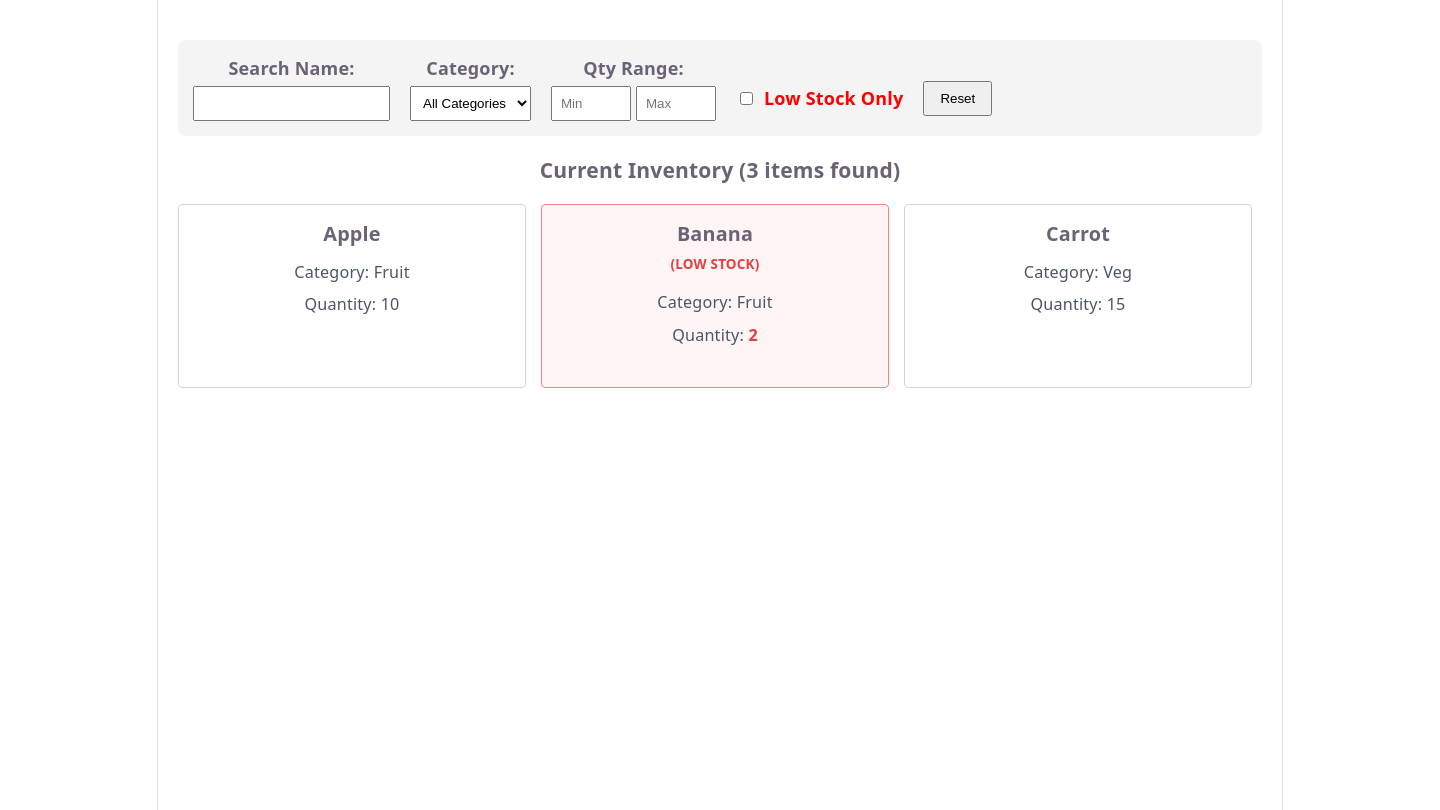
Test: InventoryList Component › filters items by search term
Expected: the text "Apple" is shown, [323,220,381,247]
Step 1. Type "apple" into the field → (292, 104), box [193,86,390,121]
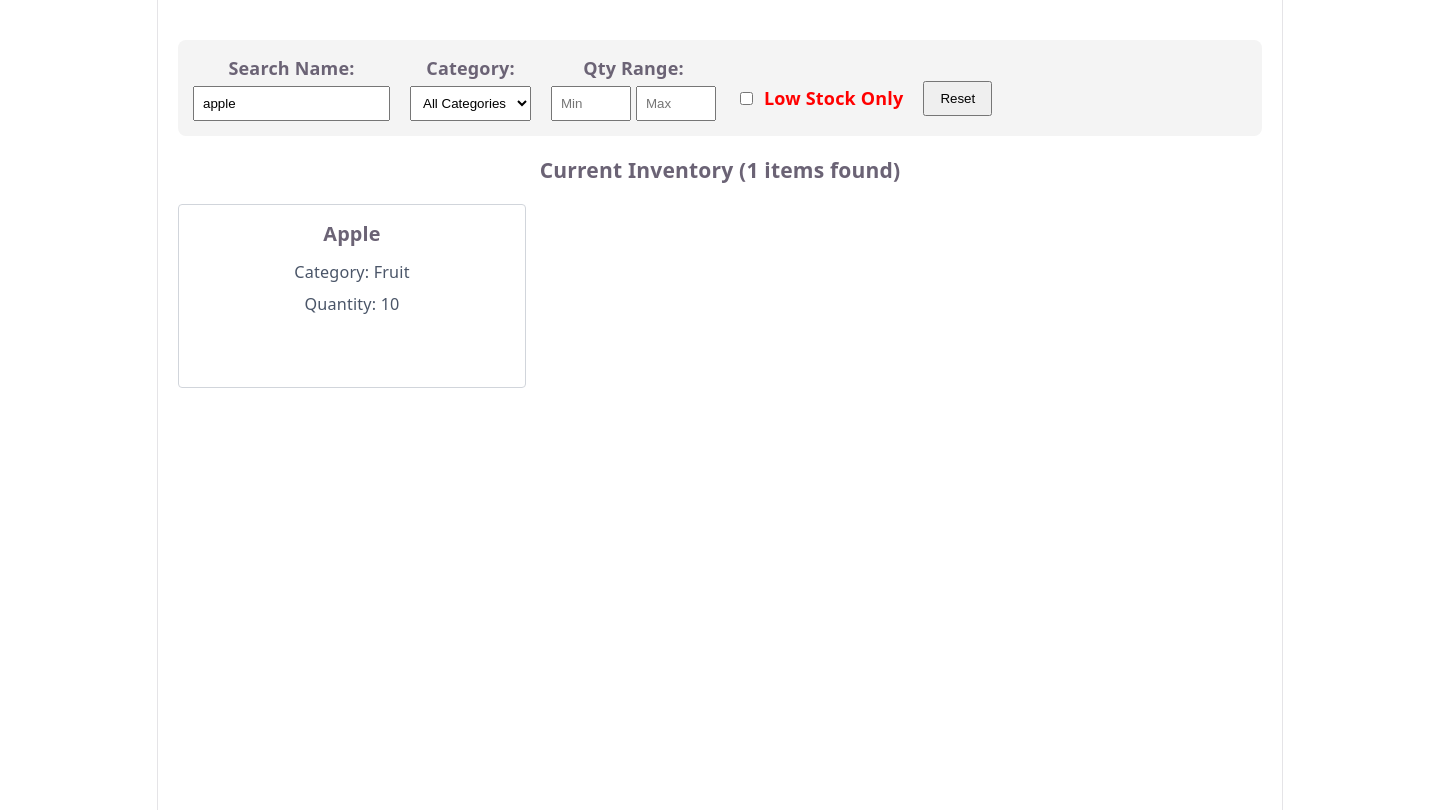
Expected: the text "Apple" is shown, [323,220,381,247]
Now the text "Banana" is gone
